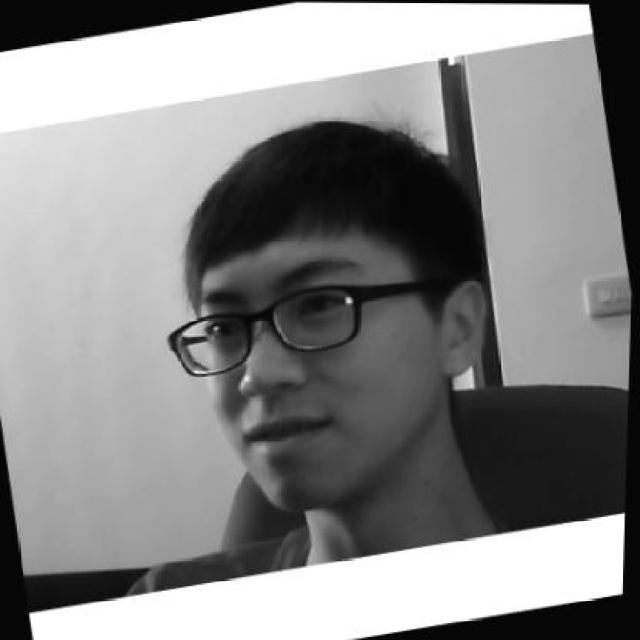attentif: (132, 94, 525, 528)
